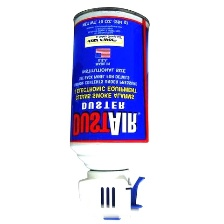cleaning_solution: (65, 3, 153, 223)
